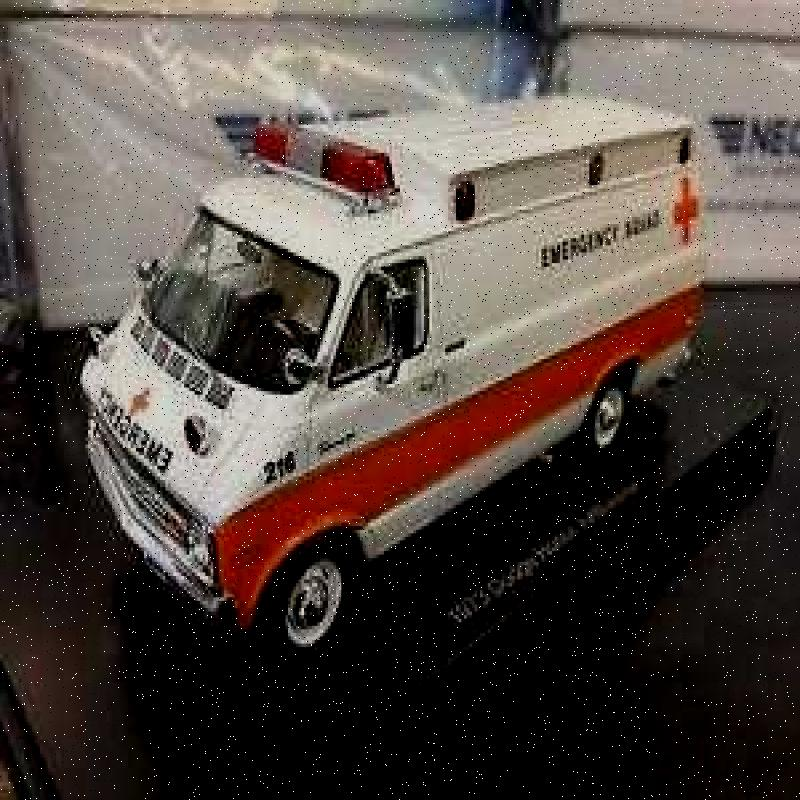AmbulanceSiren: (241, 109, 396, 228)
